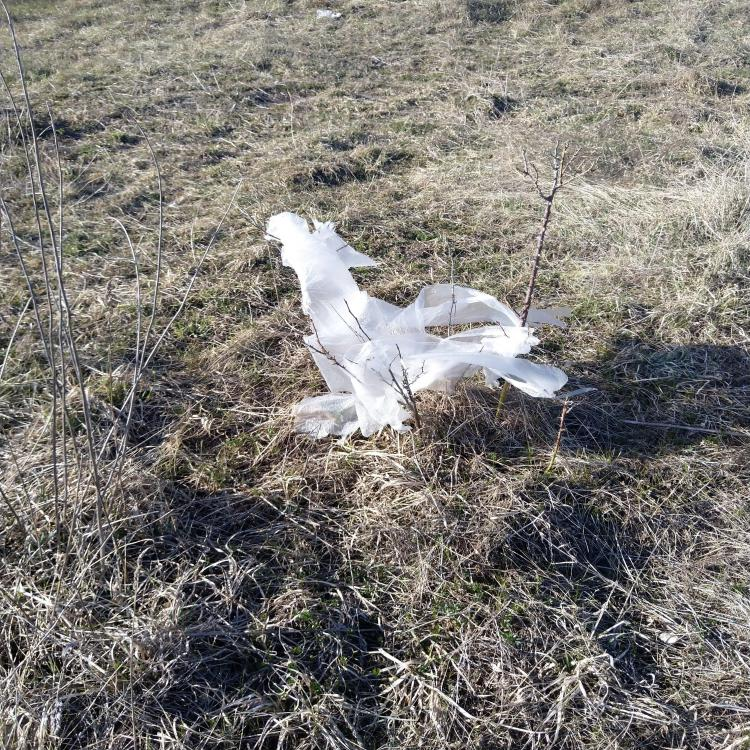Plastic film: (265, 212, 598, 440)
Unlabeled litter: (316, 10, 341, 19)
